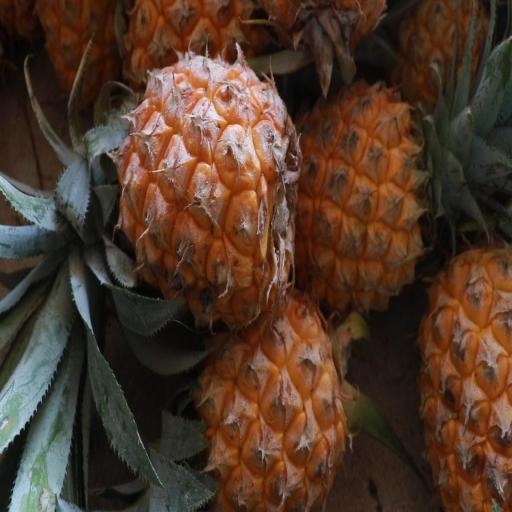Pineapple - v8 v1: (54, 44, 308, 338), (300, 70, 479, 326), (182, 284, 358, 510), (409, 230, 512, 512)
